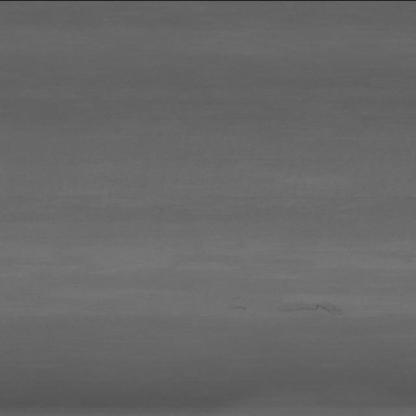water_spot: (244, 288, 359, 320)
